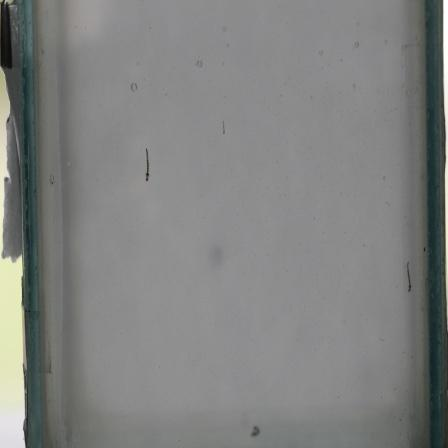Jentik-Nyamuk: (400, 258, 415, 297), (141, 144, 153, 185), (217, 116, 228, 140)
